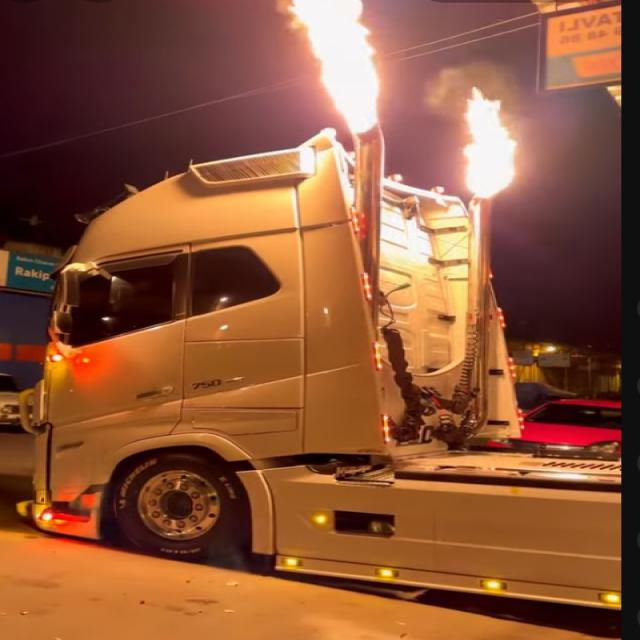fire: (288, 0, 380, 133), (466, 85, 518, 196)
